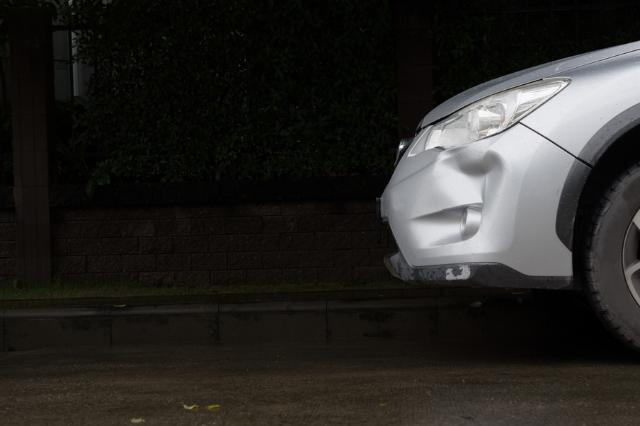Bumper: (382, 142, 596, 266)
